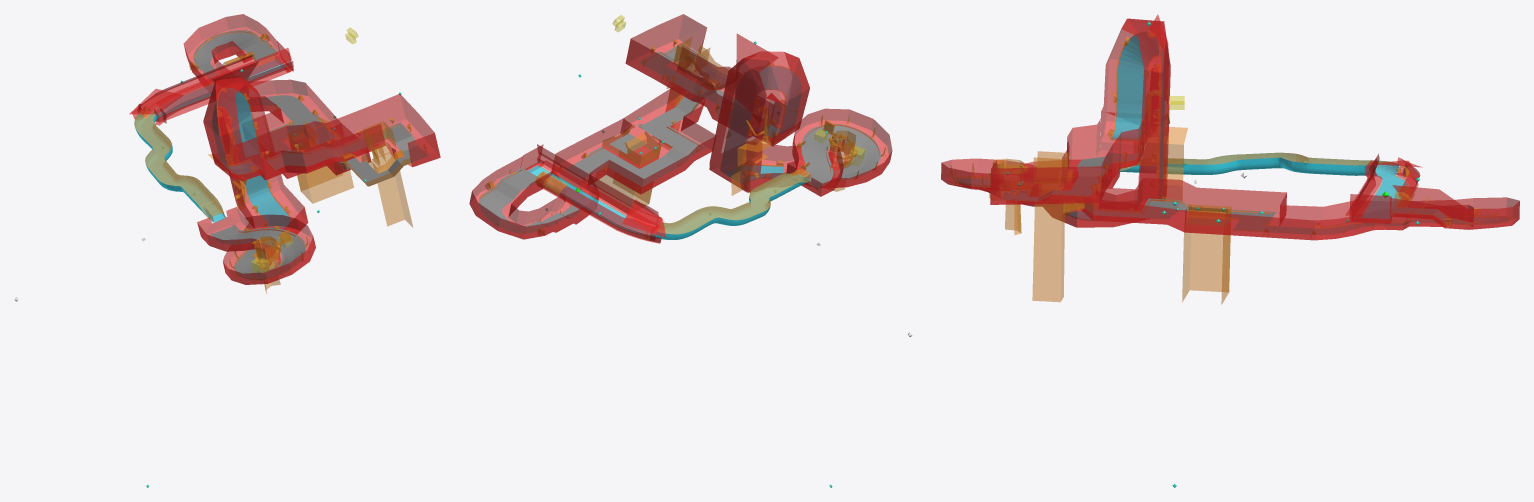
Rendered from Alley(complete).obj.
3 views of the same model, side by side, from view 1: azimuth 30°, elevation 25°; view 2: azimuth 150°, elevation 25°; view 3: azimuth 270°, elevation 25° (orthographic). The views are drawn at different scales.
Visible parts, largest first — view 1: COL_reset01, COL_track03, COL_groundreset01, COL_wall03, COL_maglev3, COL_maglev2, COL_track02, COL_wall_maglev1, COL_track04, COL_wall_shortcut, COL_wall_maglev2, COL_wall_house_a (+2 smaller); view 2: COL_reset01, COL_track03, COL_groundreset01, COL_track02, COL_maglev3, COL_maglev2, COL_track04, COL_wall_maglev1, COL_wall_shortcut, COL_wall03, COL_wall_maglev2, COL_maglev1 (+2 smaller); view 3: COL_reset01, COL_wall03, COL_wall_shortcut, COL_maglev2, COL_track03, COL_maglev3, COL_wall_maglev2, COL_groundreset01, COL_wall_maglev1, COL_track04, COL_maglev1, COL_wall_house_a (+1 smaller).
Boxes of the visible parts, x1,y1,x2,y2 form: COL_reset01: (129, 14, 440, 284); COL_track03: (246, 98, 427, 186); COL_groundreset01: (132, 56, 293, 171); COL_wall03: (265, 95, 426, 227); COL_maglev3: (212, 88, 289, 228); COL_maglev2: (134, 114, 225, 222); COL_track02: (211, 224, 305, 279); COL_wall_maglev1: (134, 106, 224, 221); COL_track04: (193, 30, 297, 106); COL_wall_shortcut: (287, 117, 353, 203); COL_wall_maglev2: (208, 86, 290, 227); COL_wall_house_a: (252, 230, 291, 293); COL_reset01: (469, 14, 892, 239); COL_track03: (563, 43, 771, 186); COL_groundreset01: (537, 34, 799, 243); COL_track02: (800, 124, 880, 187); COL_maglev3: (720, 66, 800, 181); COL_maglev2: (656, 173, 810, 239); COL_track04: (478, 167, 583, 233); COL_wall_maglev1: (644, 168, 810, 240); COL_wall_shortcut: (595, 125, 661, 207); COL_wall03: (560, 37, 728, 182); COL_wall_maglev2: (719, 63, 798, 195); COL_maglev1: (528, 165, 656, 236); COL_reset01: (941, 18, 1519, 240); COL_wall03: (999, 145, 1319, 302); COL_wall_shortcut: (1182, 204, 1231, 304); COL_maglev2: (1119, 152, 1398, 176); COL_track03: (1001, 137, 1319, 234); COL_maglev3: (1069, 32, 1164, 219); COL_wall_maglev2: (1065, 31, 1187, 220); COL_groundreset01: (1106, 14, 1420, 216); COL_wall_maglev1: (1119, 152, 1410, 177); COL_track04: (1317, 207, 1511, 234); COL_maglev1: (1362, 176, 1408, 218); COL_wall_house_a: (989, 158, 1027, 234).
Bounding box in the file's own units: 443 × 486 × 488.
